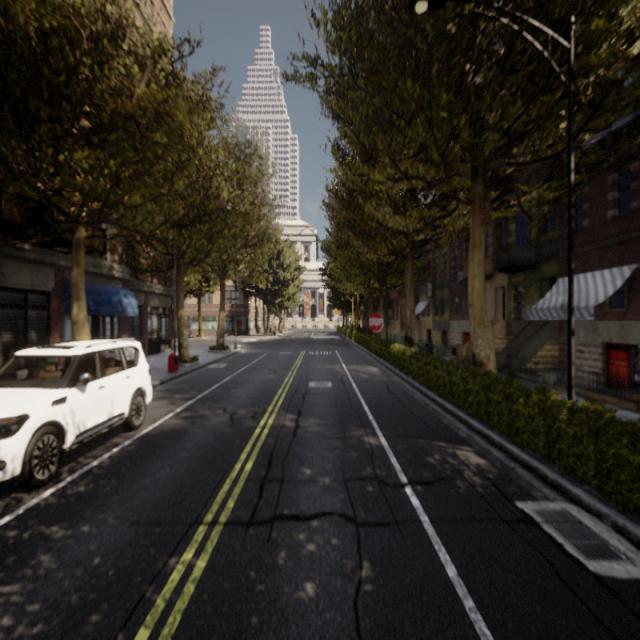stop sign: (366, 309, 385, 334)
